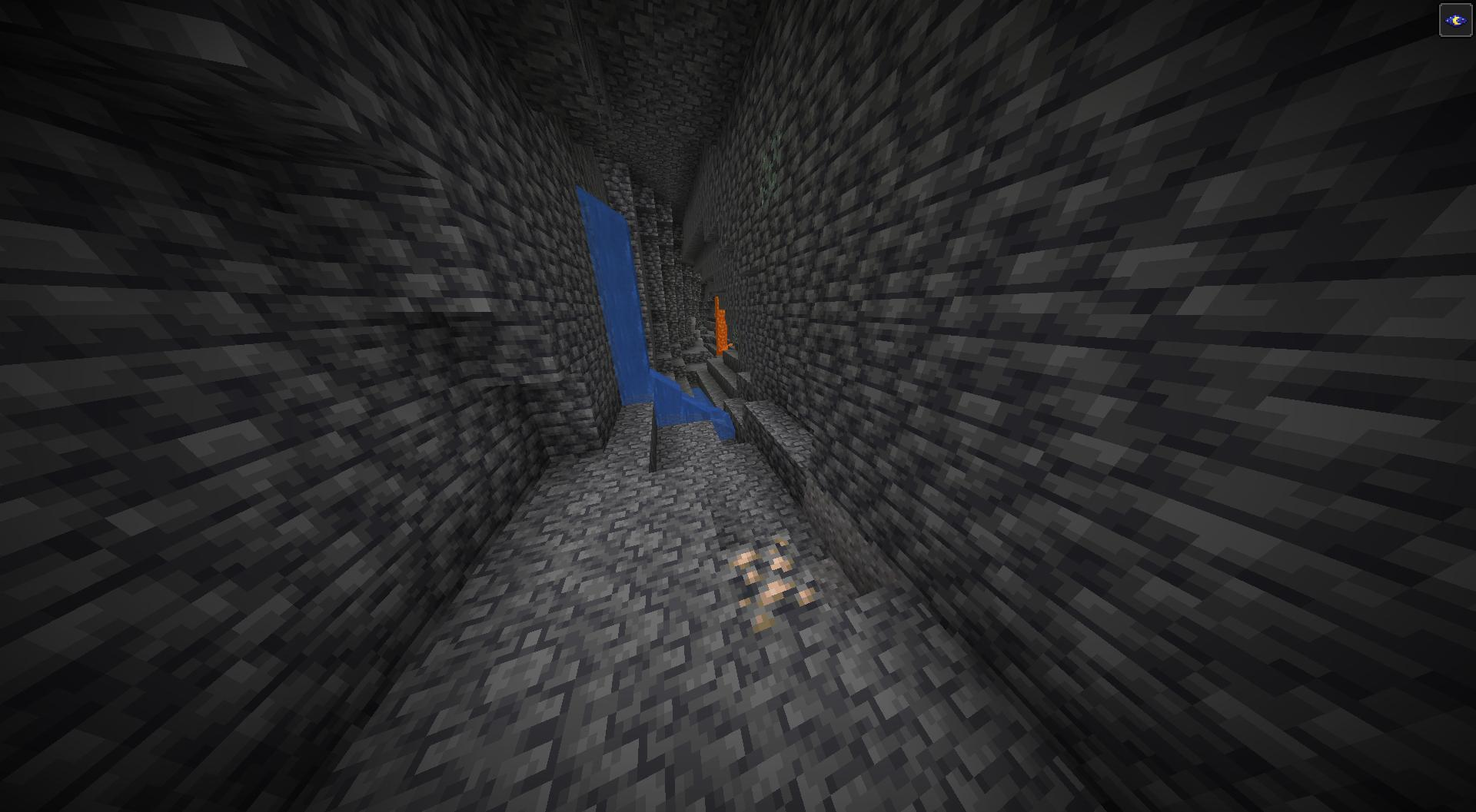iron ore: (725, 531, 824, 631)
